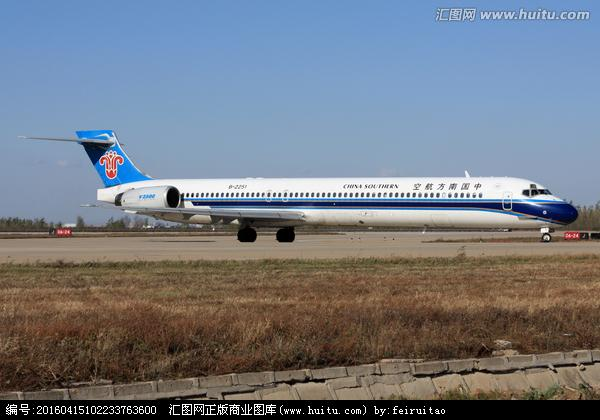airplane: (13, 118, 581, 241)
